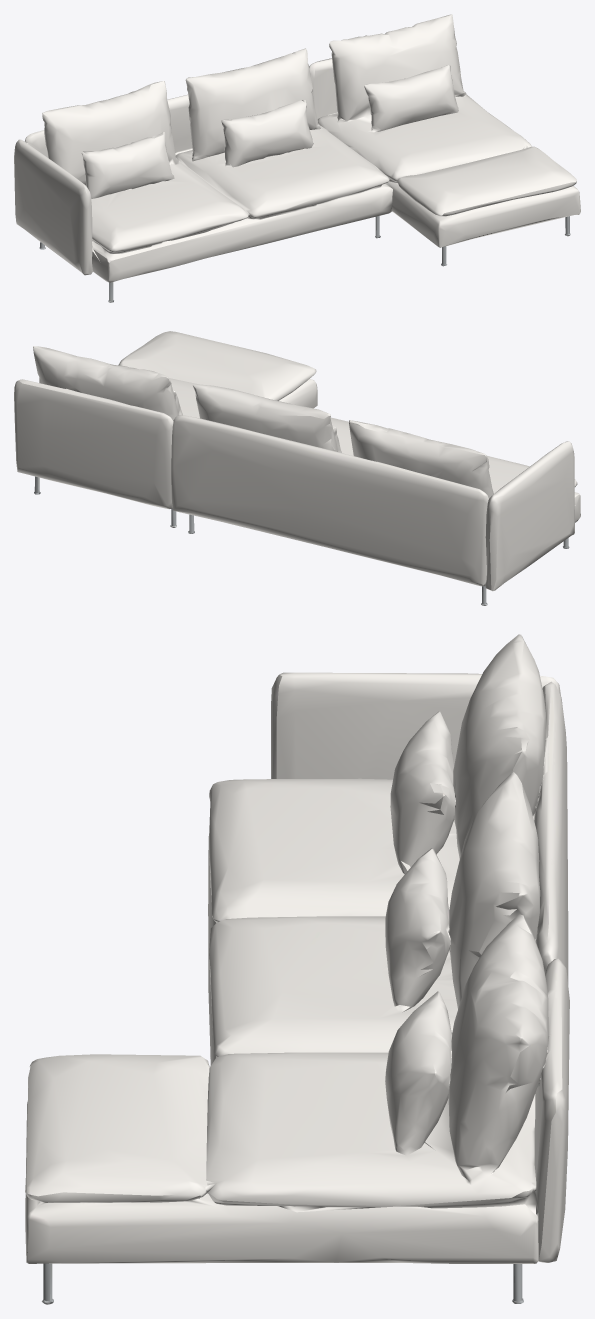
Rendered from ikea-soderhamn-4.glb.
3 renders of one model, top to bottom at view 1: azimuth 30°, elevation 25°; view 2: azimuth 150°, elevation 25°; view 3: azimuth 270°, elevation 25°, orthographic. The views are drawn at different scales.
Visible parts, largest first — view 1: ProcessedMeshNode; view 2: ProcessedMeshNode; view 3: ProcessedMeshNode.
Boxes of the visible parts, bbox=[...] form: ProcessedMeshNode: bbox=[14, 14, 580, 302]; ProcessedMeshNode: bbox=[14, 331, 580, 605]; ProcessedMeshNode: bbox=[25, 634, 569, 1304].
Size of the model in its own units: 2.89 by 0.8652 by 1.54.
Materials: 1 (1 with a texture image).
